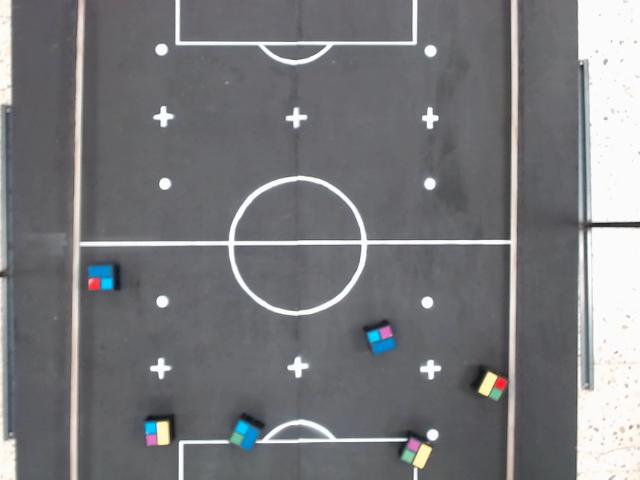robot: (398, 436, 434, 470), (475, 369, 509, 403), (227, 418, 260, 453), (364, 323, 397, 356), (85, 263, 115, 293), (142, 418, 172, 448)
